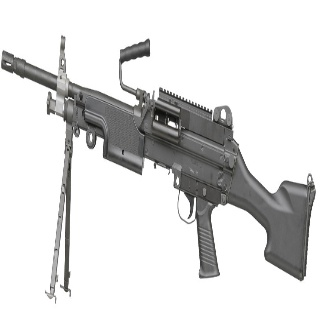rifle: (1, 37, 317, 282)
